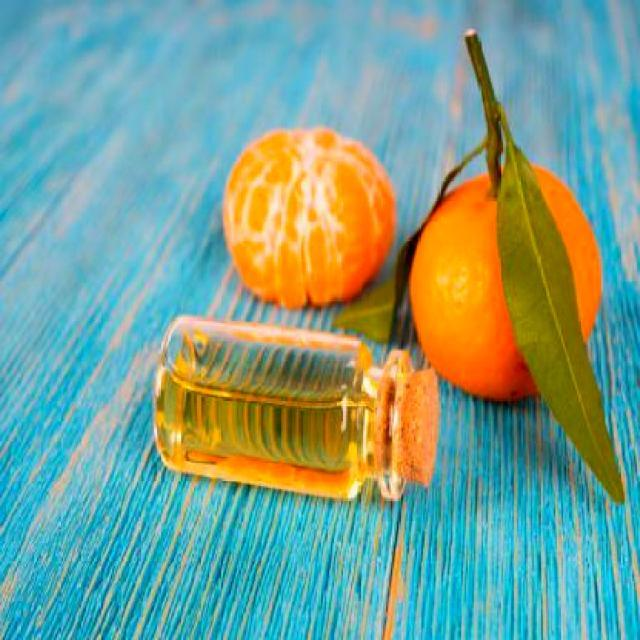Jeruk Sudah Matang: (411, 162, 604, 404)
